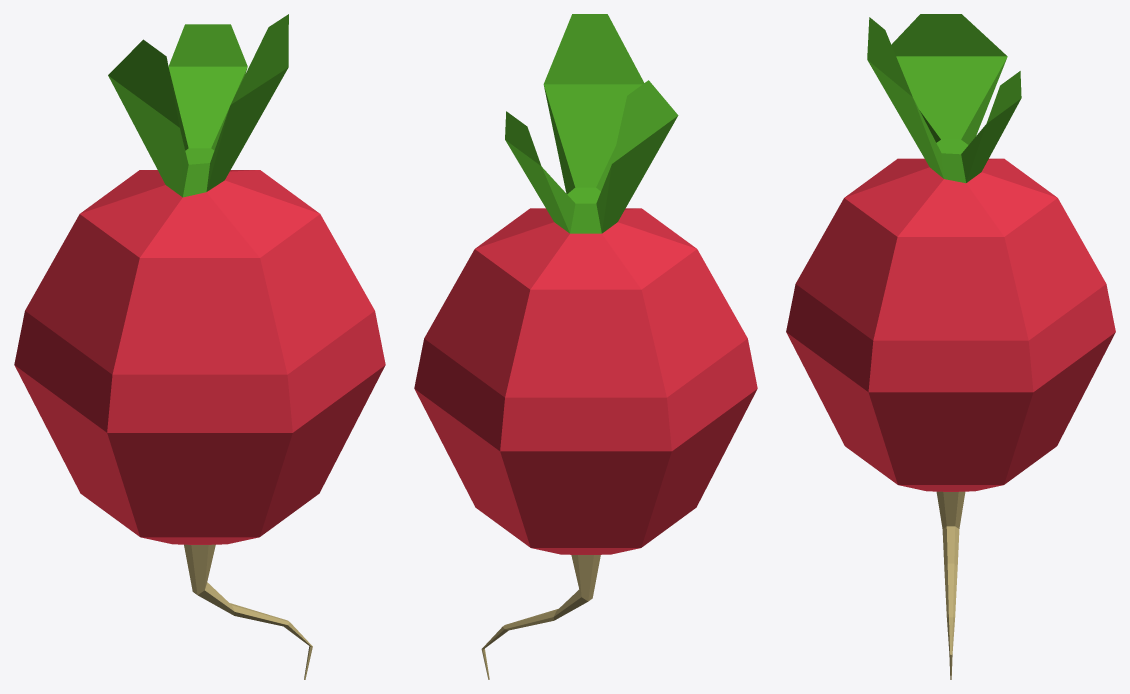
Rendered from radijsje.fbx.
3 renders of one model, left to right at view 1: azimuth 30°, elevation 25°; view 2: azimuth 150°, elevation 25°; view 3: azimuth 270°, elevation 25°, orthographic. The views are drawn at different scales.
Visible parts, largest first — view 1: Cylinder; view 2: Cylinder; view 3: Cylinder.
Boxes of the visible parts, left/top/right/bottom form: Cylinder: left=14, top=14, right=385, bottom=679; Cylinder: left=414, top=14, right=757, bottom=679; Cylinder: left=786, top=14, right=1115, bottom=679.
Size of the model in its own units: 22.11 by 53.57 by 25.53.
